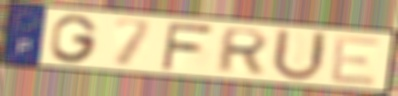7: (112, 17, 154, 68)
E: (327, 34, 383, 88)
F: (159, 21, 217, 71)
G: (48, 13, 102, 64)
R: (212, 26, 272, 75)
U: (268, 26, 330, 84)
